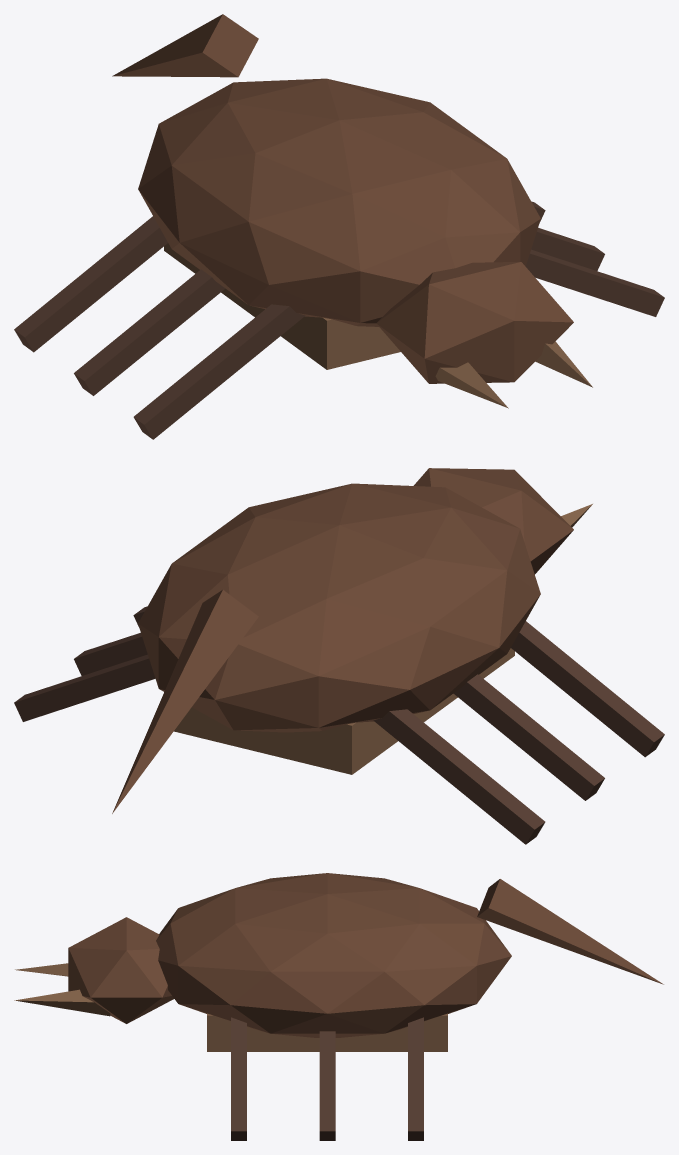
Rendered from skitterer.glb.
The picture shows the model from 3 angles, top to bottom: view 1: azimuth 30°, elevation 25°; view 2: azimuth 150°, elevation 25°; view 3: azimuth 270°, elevation 25°; orthographic projection. The views are drawn at different scales.
Visible parts, largest first — view 1: sunscar.skitterer; view 2: sunscar.skitterer; view 3: sunscar.skitterer.
Boxes of the visible parts, x1,y1,x2,y2 form: sunscar.skitterer: (14,14,664,439); sunscar.skitterer: (14,468,664,844); sunscar.skitterer: (14,873,663,1140).
Bounding box in the file's own units: 1.11 × 0.4707 × 1.62.
